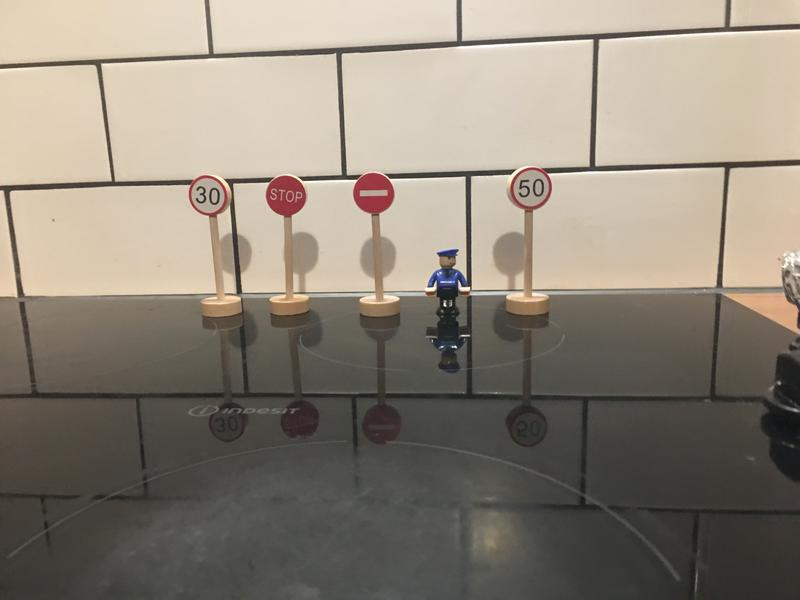Traffic_Sign_30: (190, 175, 226, 216)
Traffic_Sign_50: (511, 167, 549, 209)
Traffic_Sign_No_Entry: (354, 171, 394, 214)
Traffic_Sign_Stop: (267, 177, 306, 214)
person: (425, 248, 473, 313)
